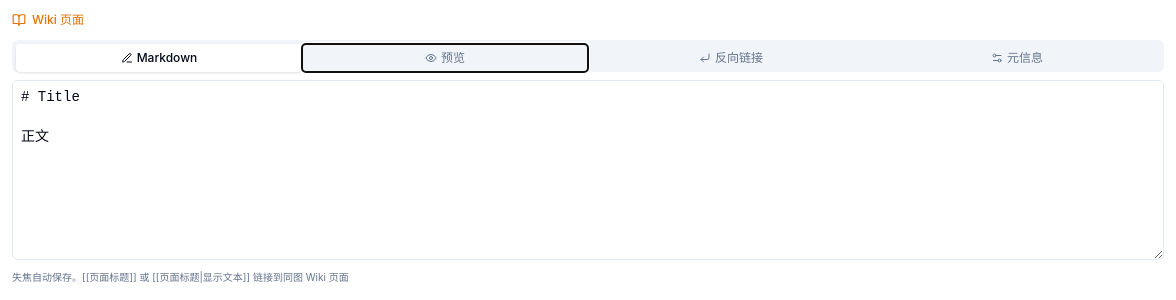
Test: WikiPageEditor — 预览页签 › 切换到预览页签渲染 Markdown 内容
Press Enter in the tab "预览", box [302,44,588,72]
Click the tab "预览" at [445, 58], box [302,44,588,72]
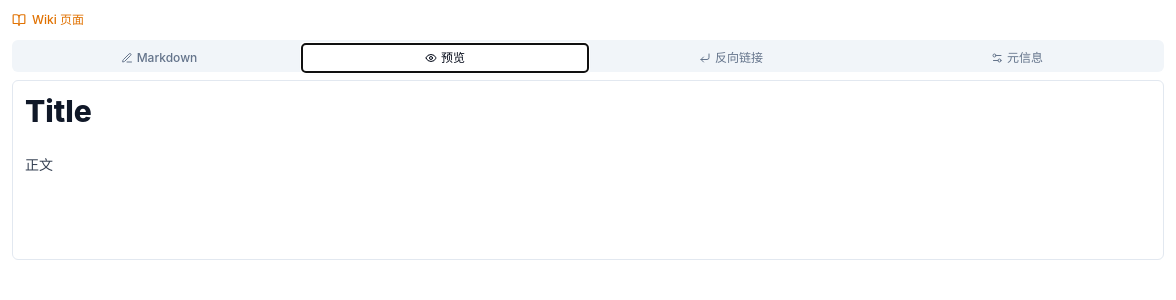
Expected: the heading "Title" is shown, [25,93,92,129]
